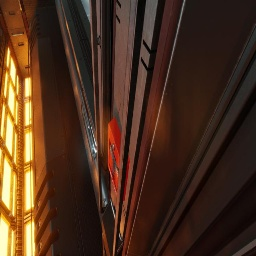FireAlarm ,: (108, 117, 130, 201)
